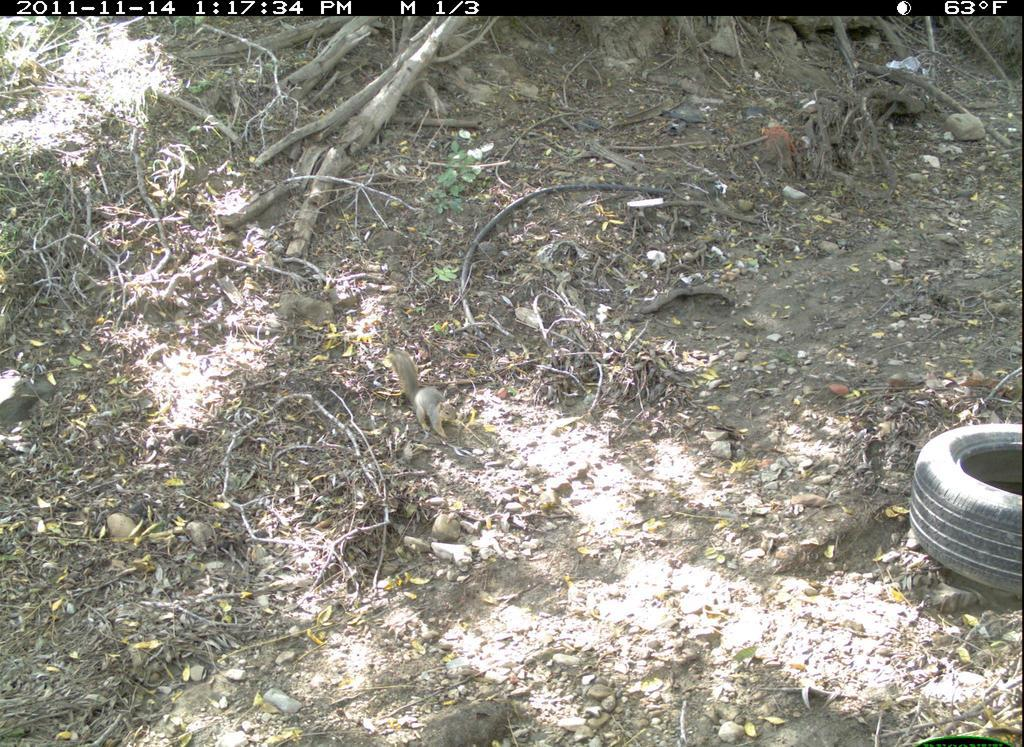squirrel: (386, 345, 462, 443)
